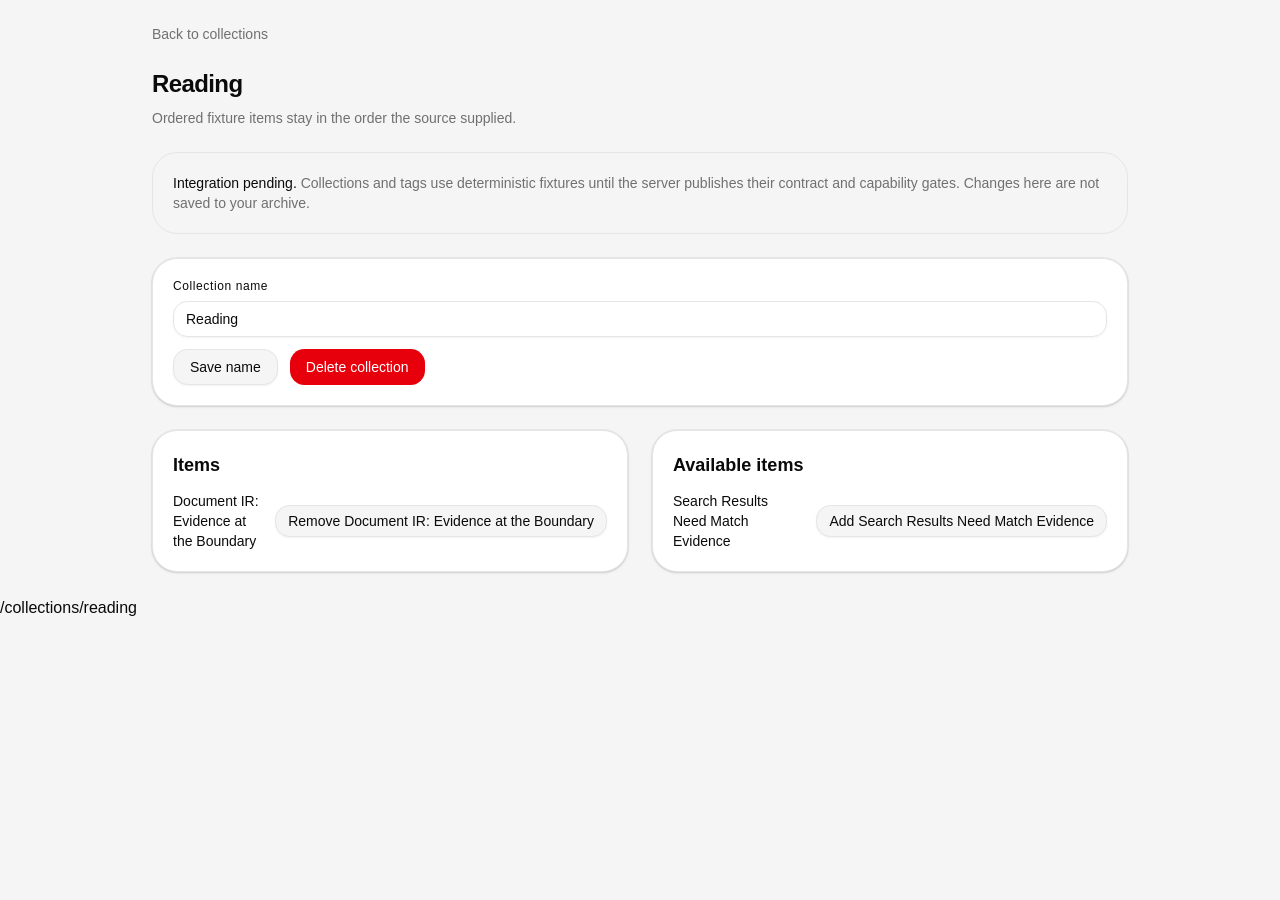
Test: CollectionsPage › requires named confirmation before deletion
Click the button "Delete collection".
click(357, 367)  # box [290,349,424,385]
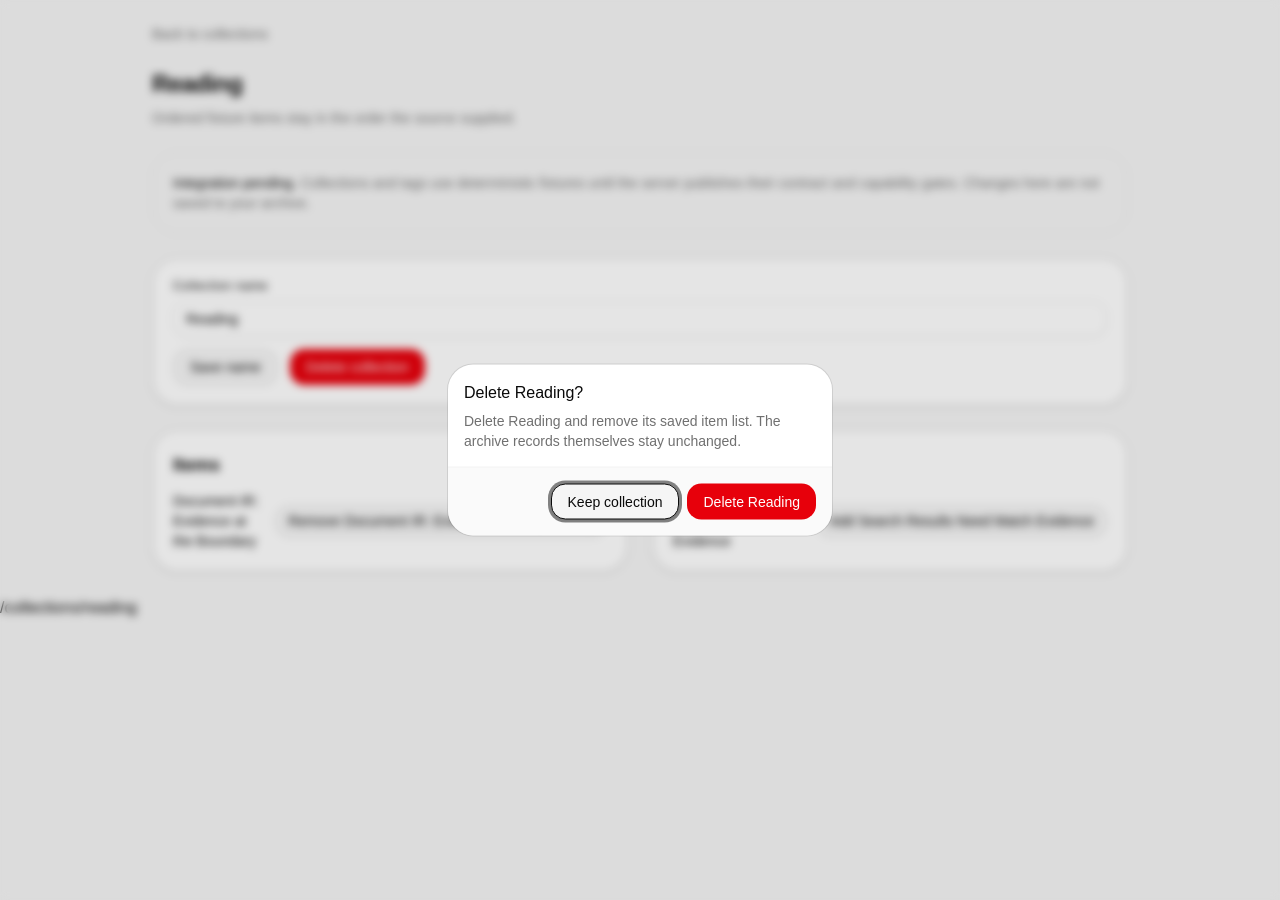
Check: the dialog shows "Delete Reading and remove its saved item list", box [448,364,832,536]
Click the button "Delete Reading".
click(752, 502)  # box [688,484,816,520]
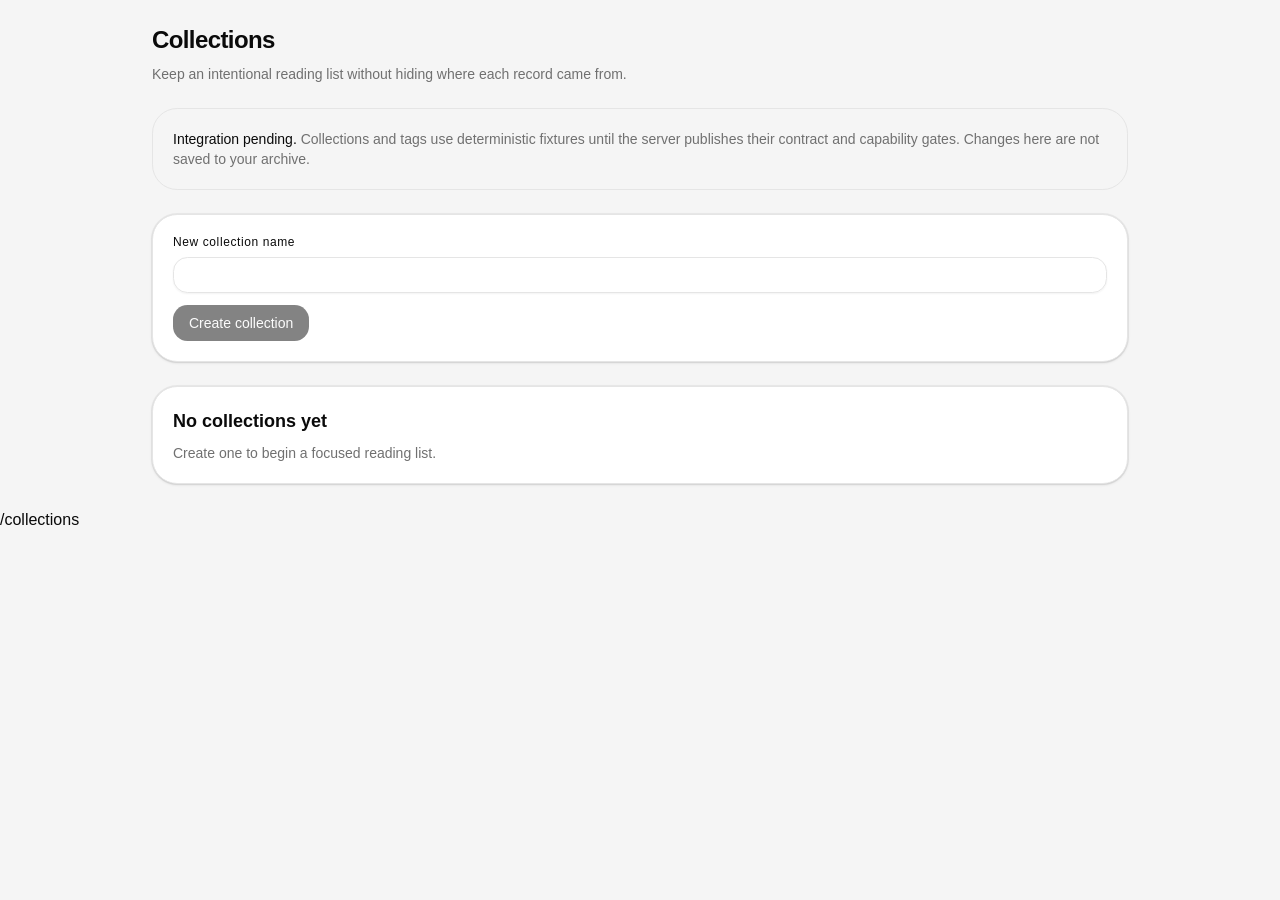
Check: the heading "Collections" is shown, box [152,26,275,53]
